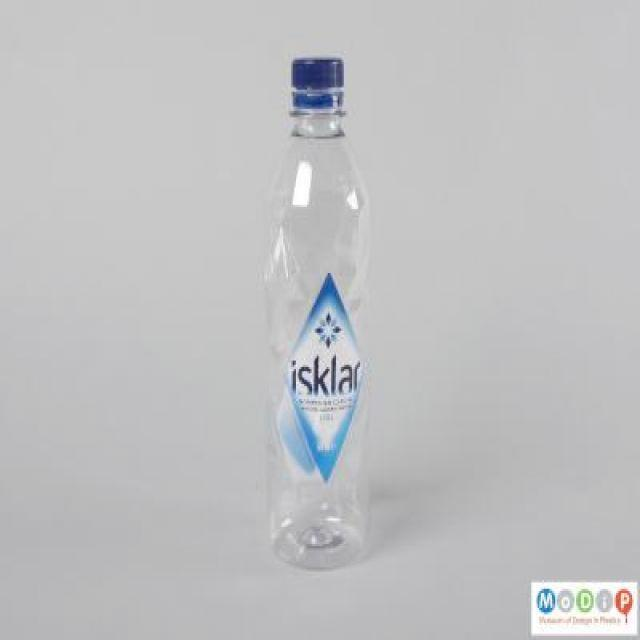bottle: (261, 58, 371, 571)
